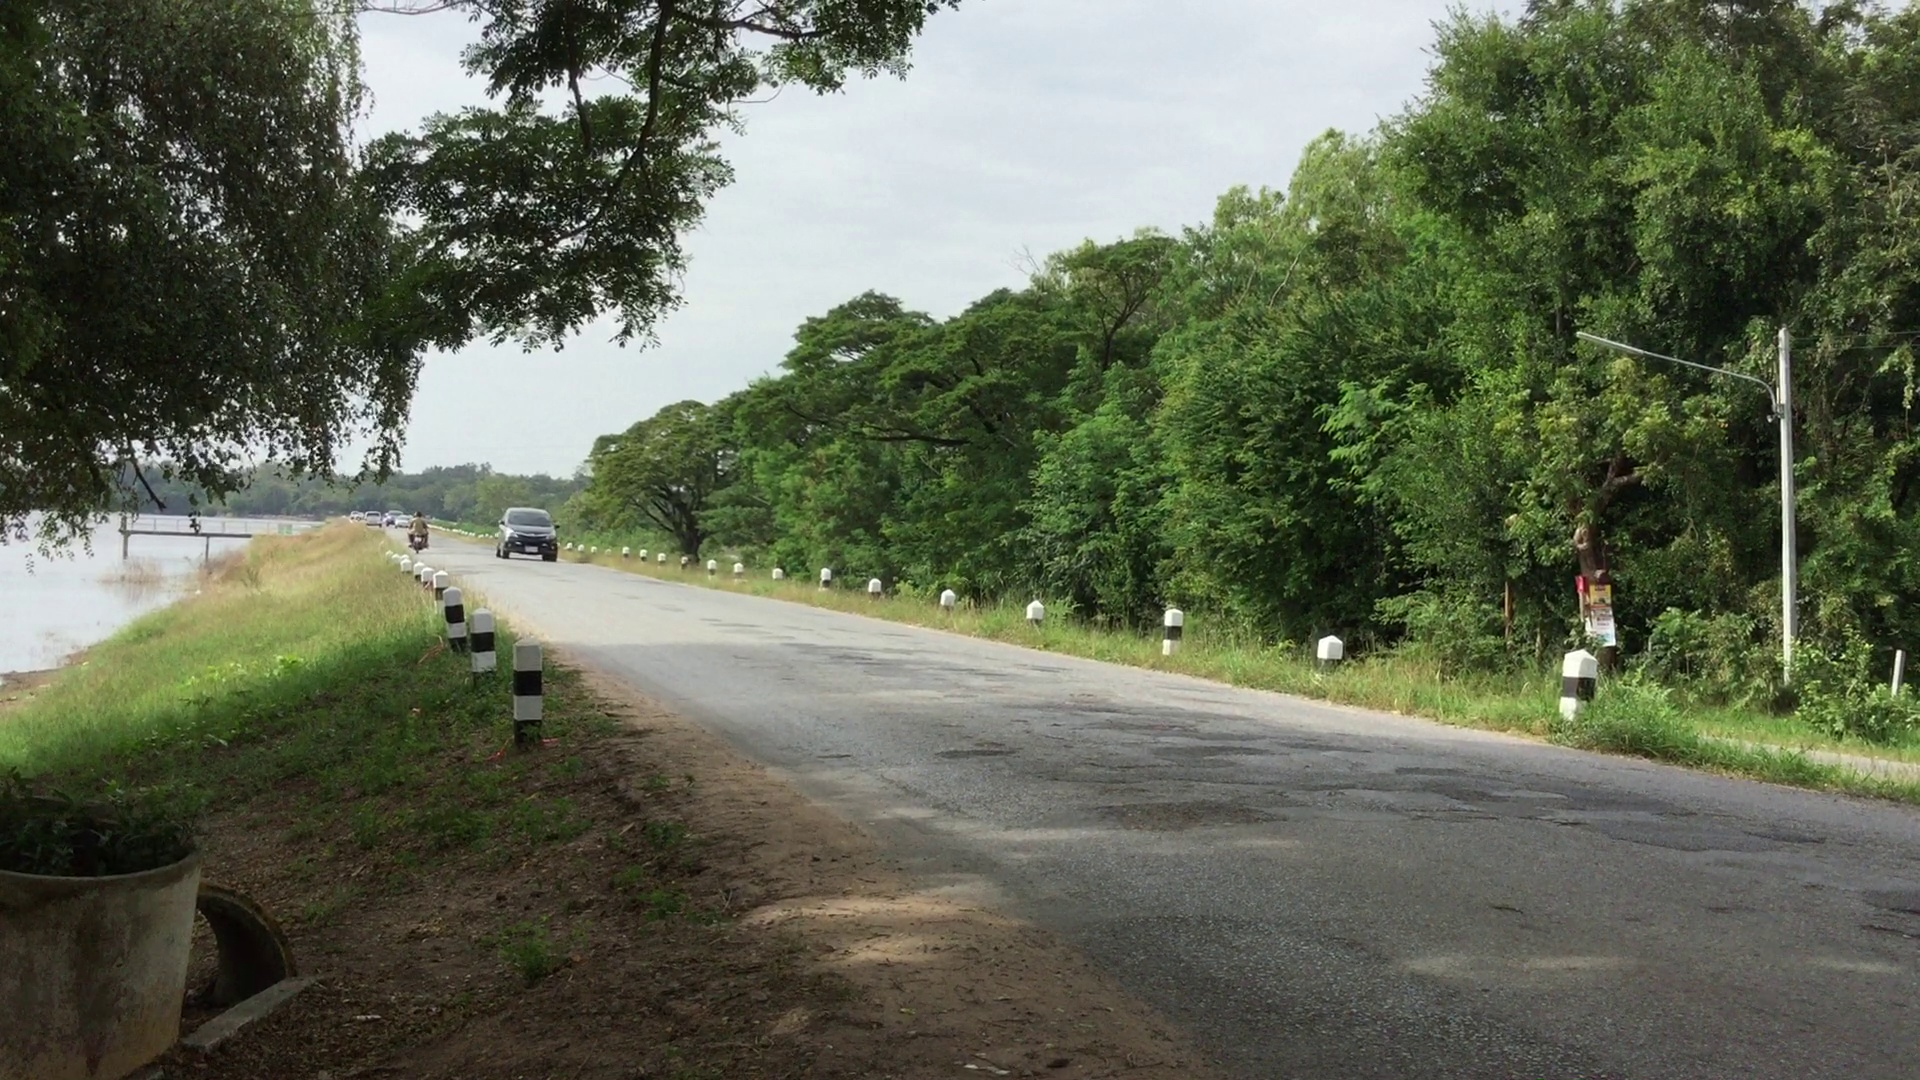bicicle: (404, 509, 436, 549)
car: (489, 495, 572, 570)
post: (512, 636, 549, 748), (1555, 644, 1606, 724), (464, 603, 510, 678), (434, 582, 468, 655), (1315, 626, 1345, 683), (1160, 603, 1185, 655), (931, 583, 960, 613), (1023, 595, 1047, 628), (864, 574, 885, 599)
